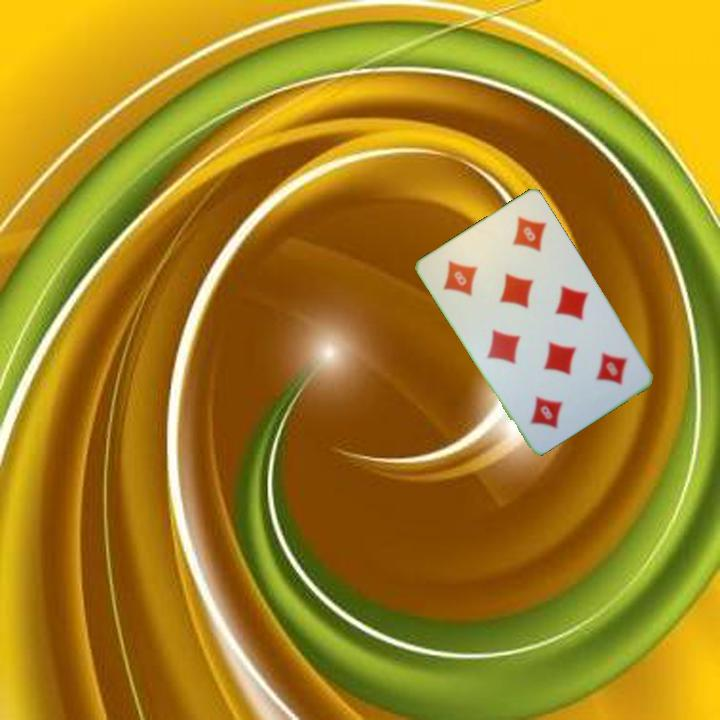d_8.png: (559, 329, 645, 412), (426, 232, 511, 315)
